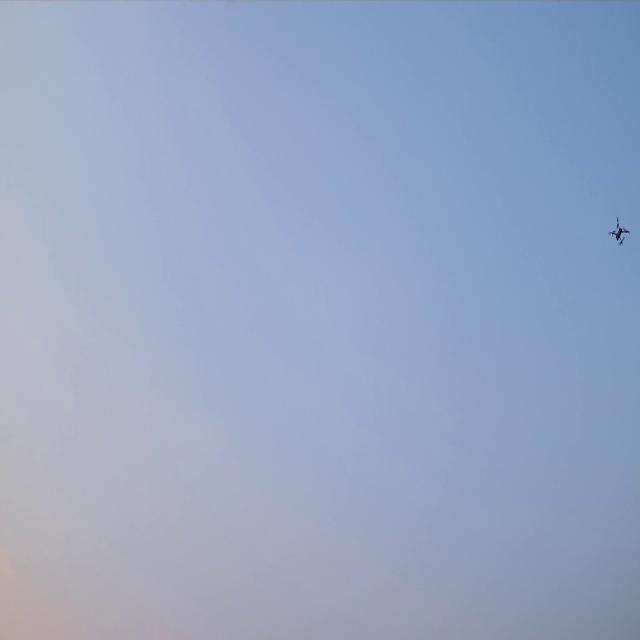UAV: (612, 219, 628, 244)
